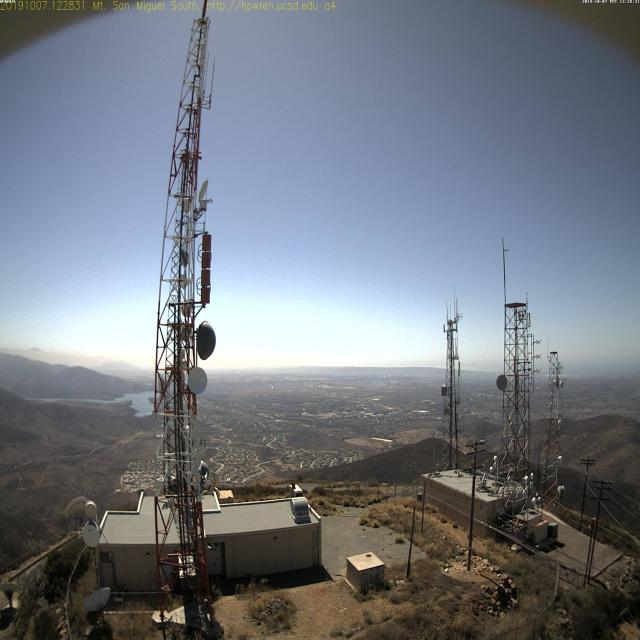smoke: (360, 370, 402, 384)
